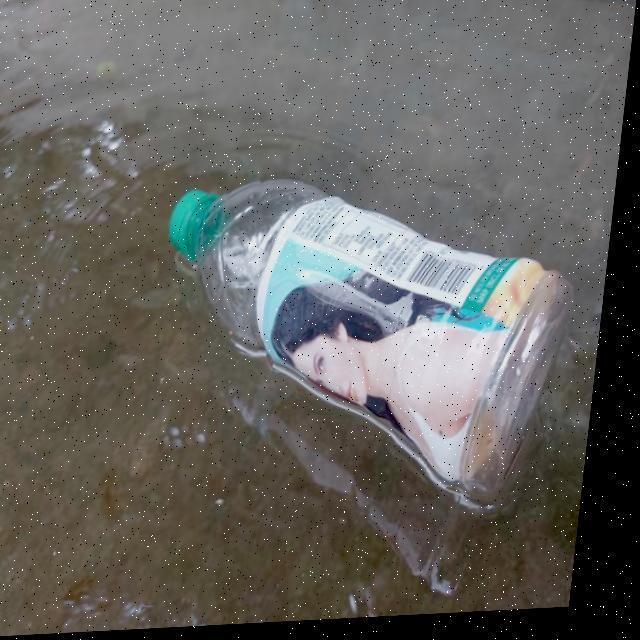waterbottle: (131, 143, 615, 539)
